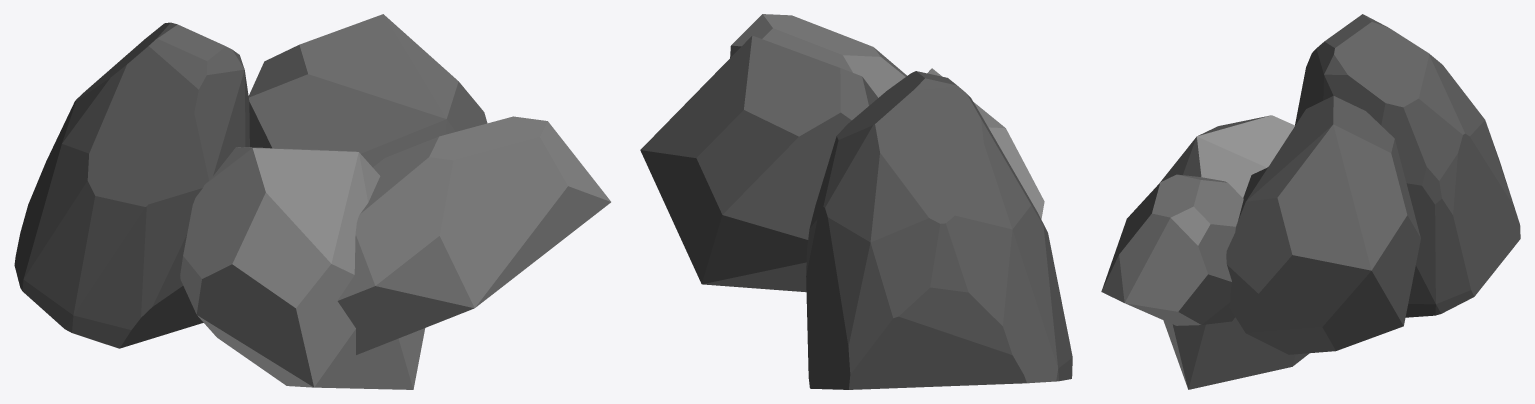
File: Rock_Grey (1).fbx
3 renders of one model, left to right at view 1: azimuth 30°, elevation 25°; view 2: azimuth 150°, elevation 25°; view 3: azimuth 270°, elevation 25°, orthographic. The views are drawn at different scales.
Visible parts, largest first — view 1: Icosphere_062, Rock2_004, Rock3_004, Rock1_004; view 2: Icosphere_062, Rock1_004, Rock3_004, Rock2_004; view 3: Rock1_004, Icosphere_062, Rock3_004, Rock2_004.
Boxes of the visible parts, <box> form: Icosphere_062: <box>14,22,249,348</box>; Rock2_004: <box>180,147,425,389</box>; Rock3_004: <box>337,116,610,354</box>; Rock1_004: <box>248,14,487,167</box>; Icosphere_062: <box>806,71,1072,389</box>; Rock1_004: <box>640,35,877,292</box>; Rock3_004: <box>730,14,906,97</box>; Rock2_004: <box>927,68,1044,219</box>; Rock1_004: <box>1226,95,1420,354</box>; Icosphere_062: <box>1295,14,1520,317</box>; Rock3_004: <box>1101,174,1243,325</box>; Rock2_004: <box>1160,115,1309,389</box>.
Bounding box in the file's own units: 186 × 132 × 164.
